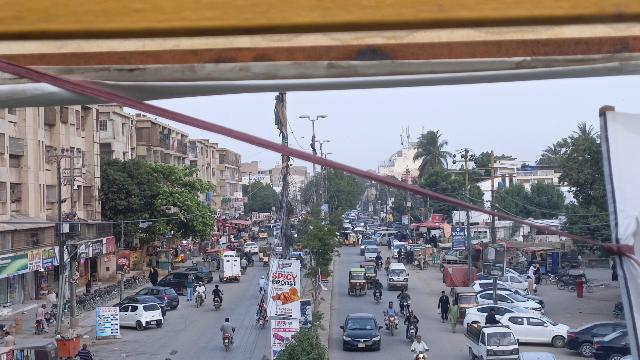Bike: (385, 312, 399, 337), (221, 333, 235, 352), (406, 321, 418, 342), (33, 318, 46, 336), (400, 298, 411, 316), (211, 297, 224, 312), (256, 316, 268, 332), (373, 288, 384, 305), (196, 292, 206, 309), (414, 350, 426, 360)
Car: (502, 311, 568, 348), (563, 317, 624, 356), (336, 311, 385, 351), (119, 301, 163, 333), (591, 327, 630, 360), (138, 284, 180, 310)
Person: (434, 287, 451, 324), (446, 298, 460, 333), (184, 273, 195, 303), (410, 334, 428, 351), (404, 309, 421, 326), (221, 315, 235, 334), (34, 302, 49, 319), (384, 300, 398, 317), (398, 289, 411, 303), (213, 280, 222, 298), (373, 276, 383, 290), (195, 282, 206, 293)
Rickshaw: (347, 266, 368, 298), (360, 259, 377, 290)
Suzuki: (462, 306, 521, 360)
Truck: (216, 256, 243, 286)
Van: (386, 261, 410, 292)
